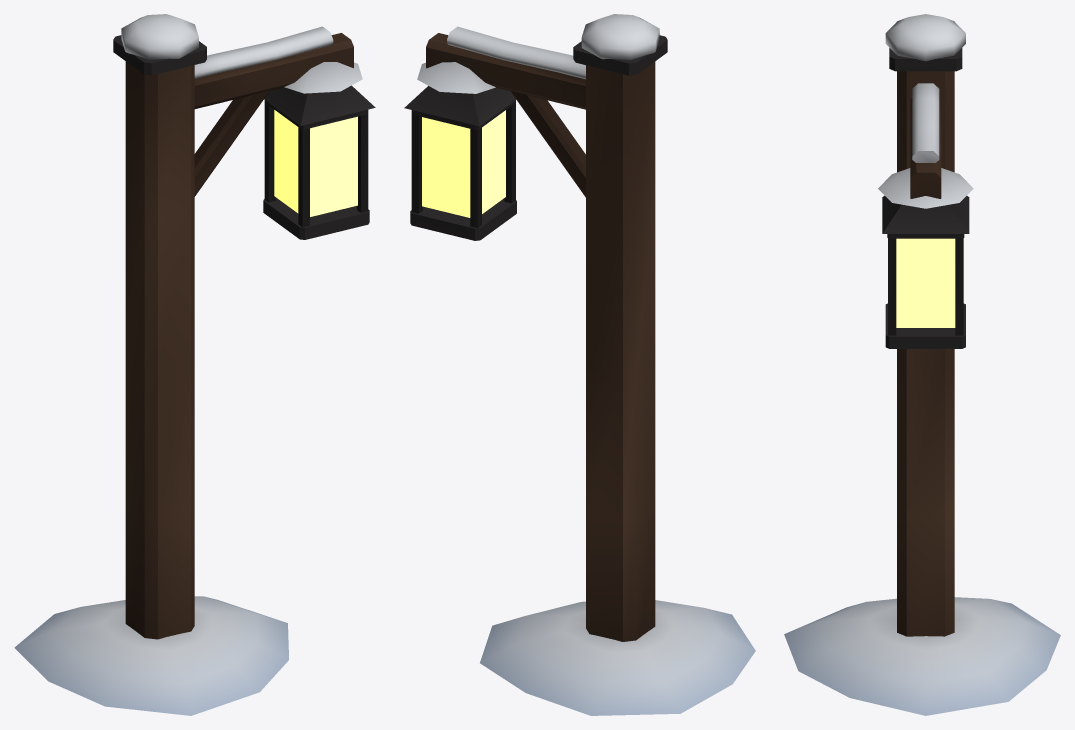
The model's file is lantern_post.glb.
The picture shows the model from 3 angles, left to right: view 1: azimuth 30°, elevation 25°; view 2: azimuth 150°, elevation 25°; view 3: azimuth 270°, elevation 25°; orthographic projection.
Parts seen in each view (by area): view 1: lantern_post; view 2: lantern_post; view 3: lantern_post.
Part boxes in pixels (box(x1,y1,x2,y2)): lantern_post: box(14, 14, 375, 715); lantern_post: box(404, 14, 755, 715); lantern_post: box(784, 14, 1060, 715).
Size of the model in its own units: 0.9308 by 1.82 by 0.7221.
